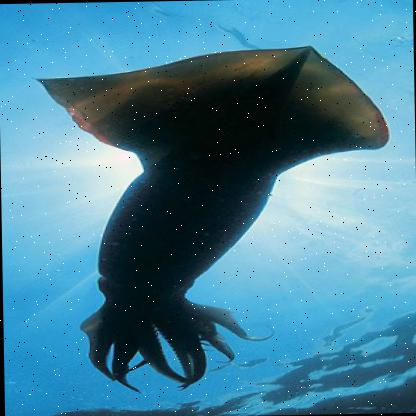colossal_squid: (29, 37, 394, 396)
